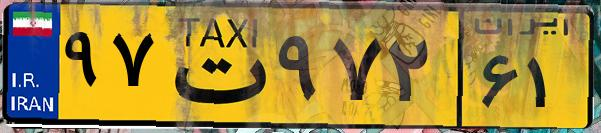1: (525, 38, 570, 115)
2: (385, 28, 445, 110)
6: (475, 38, 525, 113)
7: (330, 28, 385, 110), (110, 28, 158, 98)
9: (270, 28, 330, 110), (57, 26, 110, 100)
ت: (158, 12, 270, 120)
